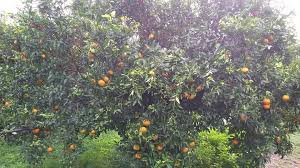orange: (95, 79, 105, 87), (137, 127, 147, 134)
